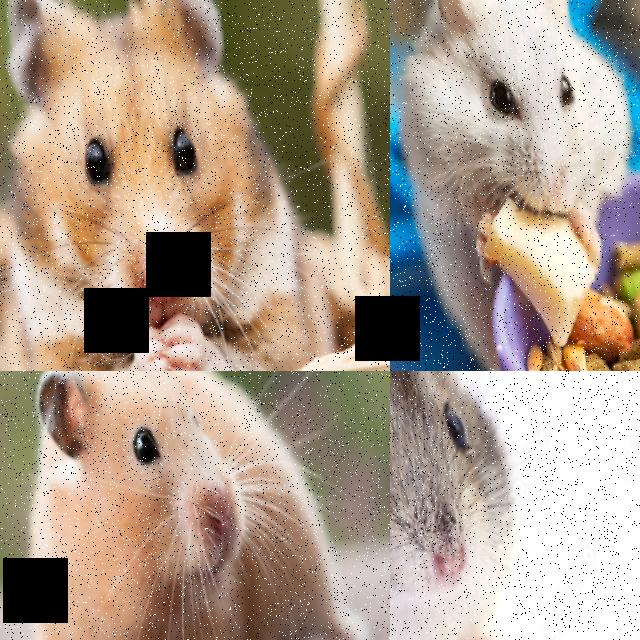hamster: (0, 0, 343, 371), (0, 371, 390, 640), (390, 0, 640, 363), (390, 371, 554, 640)
